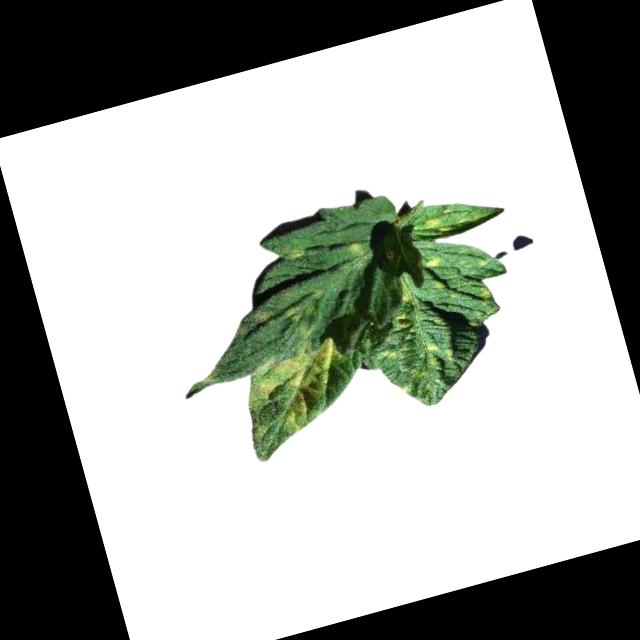Leaf_Mold: (236, 334, 358, 444), (367, 280, 467, 402), (251, 289, 337, 352), (422, 207, 456, 240), (347, 239, 364, 264), (425, 253, 446, 271)
